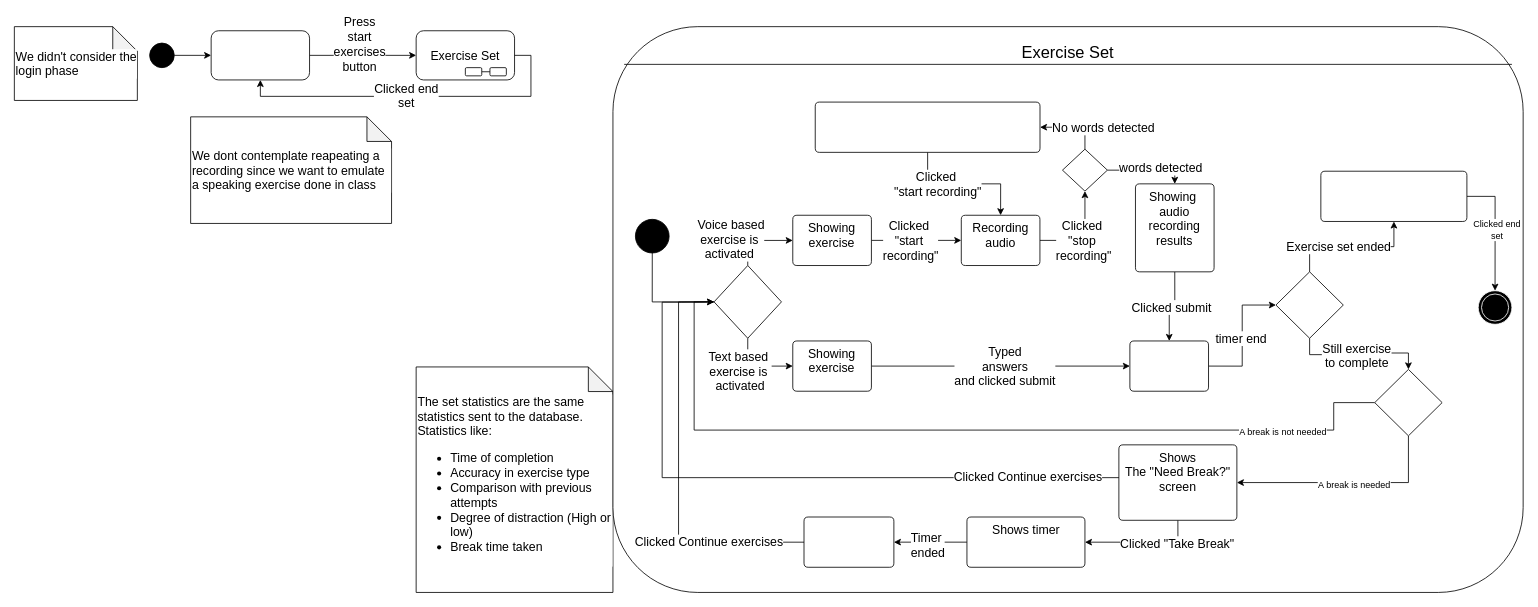
Some shapes in this 1538 by 607 pixel diagram are drawn without their labels. Here are the shapes that lost their labels. From the top down, the box of each, then its label:
(210, 30, 310, 80): Showing start screen
(814, 101, 1040, 152): Showing No words detected, repeat
(1320, 170, 1467, 221): Showing exercise set statistics
(1129, 340, 1209, 391): Showing Results
(803, 516, 894, 567): Shows timer ended
